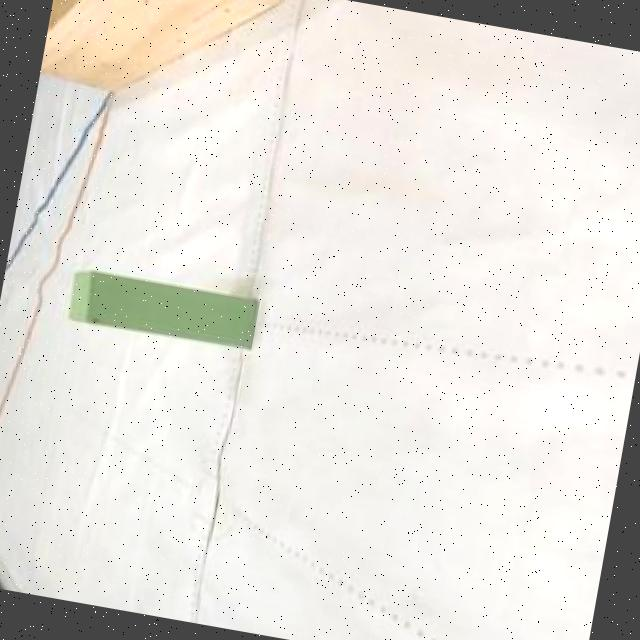greenbox: (62, 264, 259, 352)
